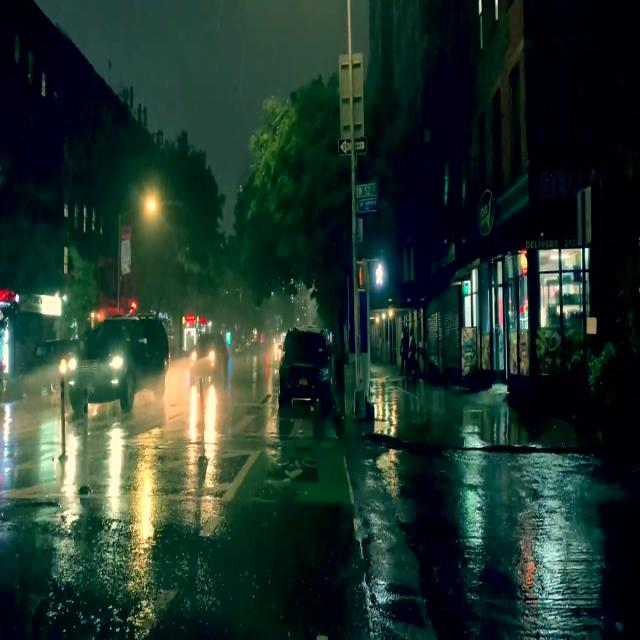Car: (67, 319, 164, 415), (278, 326, 330, 404), (191, 327, 226, 388)
